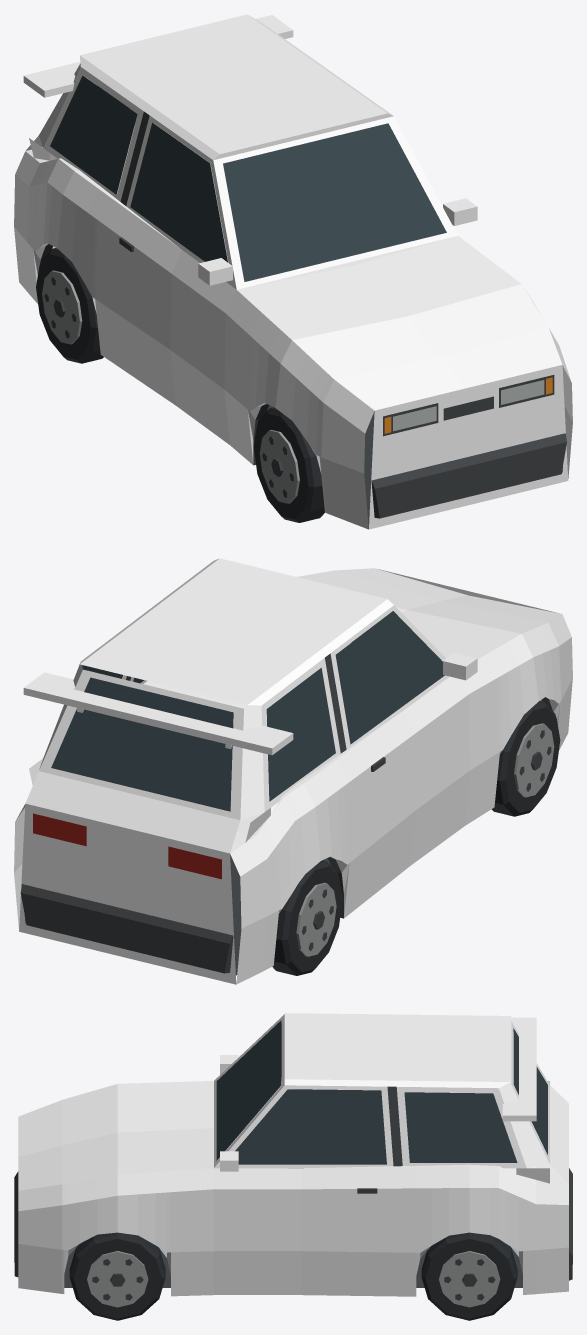
The model's file is kosame_shirakumo_corrida.glb.
The picture shows the model from 3 angles, top to bottom: view 1: azimuth 30°, elevation 25°; view 2: azimuth 150°, elevation 25°; view 3: azimuth 270°, elevation 25°; orthographic projection. The views are drawn at different scales.
Visible parts, largest first — view 1: kosame_shirakumo_corrida; view 2: kosame_shirakumo_corrida; view 3: kosame_shirakumo_corrida.
Part boxes in pixels (bbox=[...]): kosame_shirakumo_corrida: bbox=[14, 14, 572, 529]; kosame_shirakumo_corrida: bbox=[14, 558, 572, 984]; kosame_shirakumo_corrida: bbox=[14, 1013, 572, 1320].
Bounding box in the file's own units: 1.62 × 1.62 × 3.62.
Materials: 8 (1 with a texture image).
